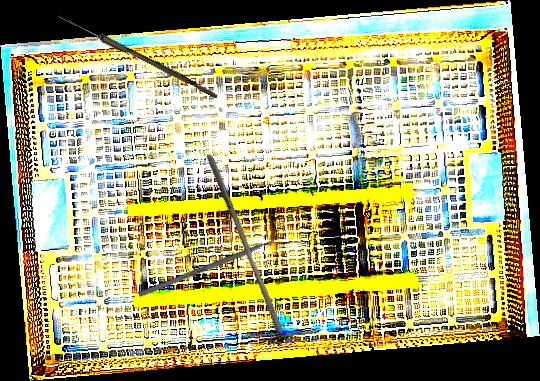Pusher: (198, 152, 291, 335), (137, 230, 295, 298)
Surgical Spoon: (56, 13, 220, 99)
